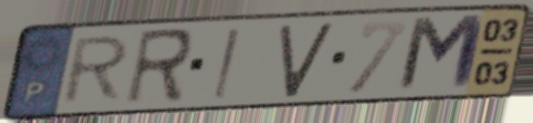7: (351, 17, 412, 96)
I: (210, 25, 243, 102)
M: (393, 12, 490, 96)
R: (120, 25, 197, 109), (57, 32, 135, 108)
V: (276, 19, 337, 101)
